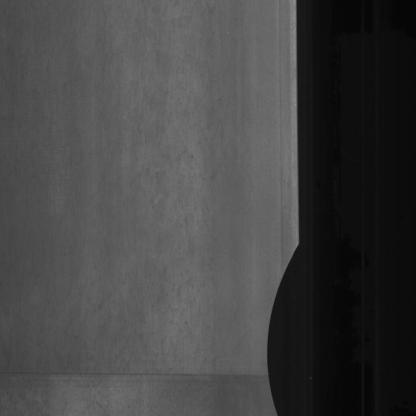welding_line: (3, 361, 274, 388)
